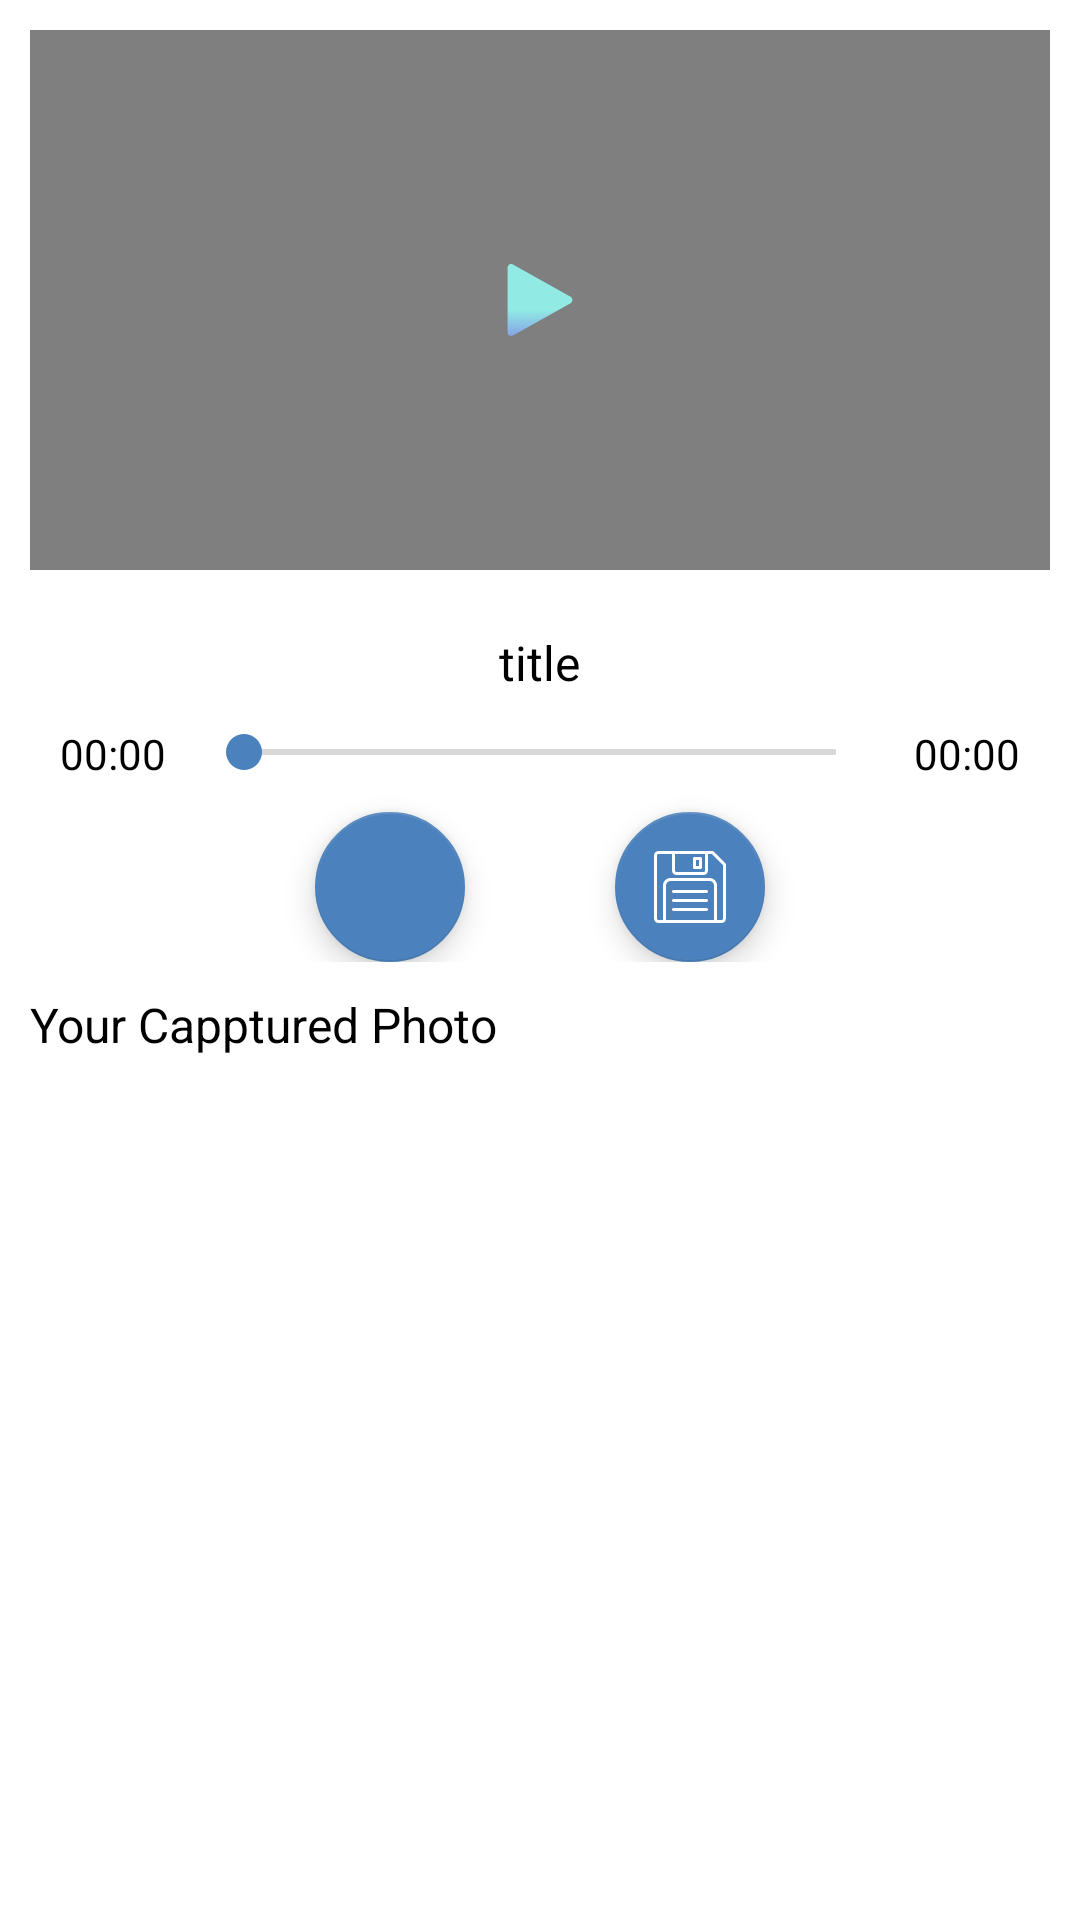

Locate icon controls on the screen. Image size 1080x1920, boxes as (x1, y1, x2, y2).
Pause and Play Button: (507, 264, 573, 336)
save: (615, 812, 765, 962)
